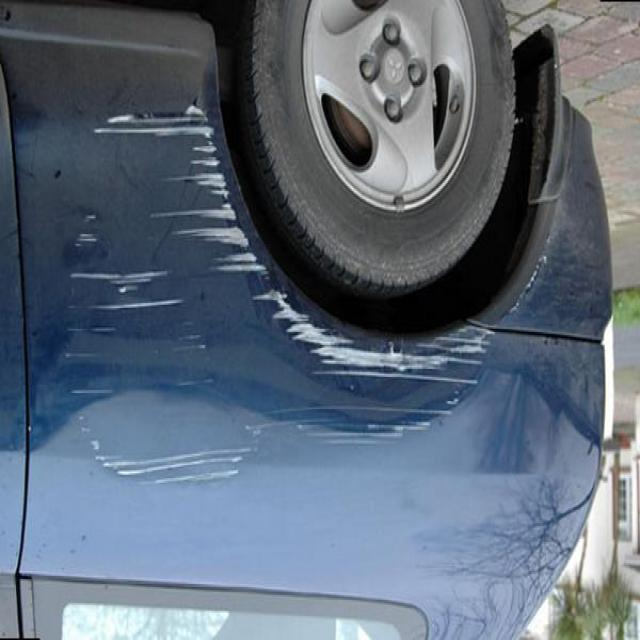scratch: (59, 98, 268, 486), (278, 278, 502, 460)
